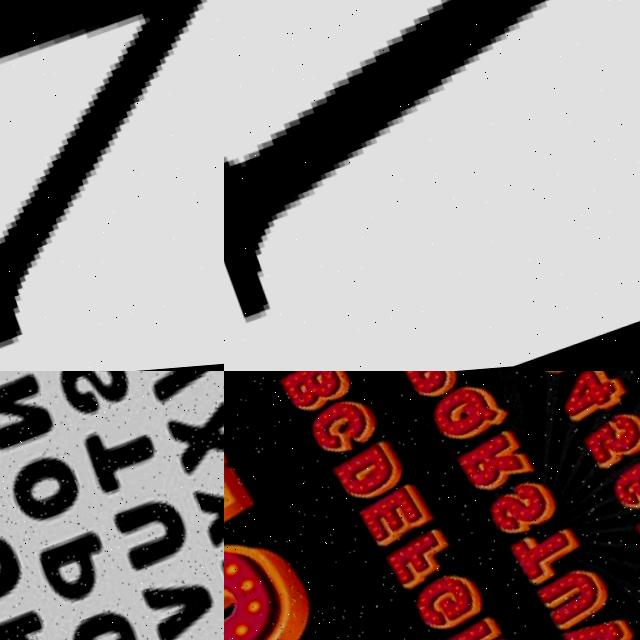3: (518, 371, 593, 388)
4: (538, 371, 622, 434)
5: (569, 414, 640, 482)
6: (596, 455, 640, 527)
7: (623, 501, 640, 565)
I: (224, 0, 551, 324)
Y: (0, 0, 224, 362)
